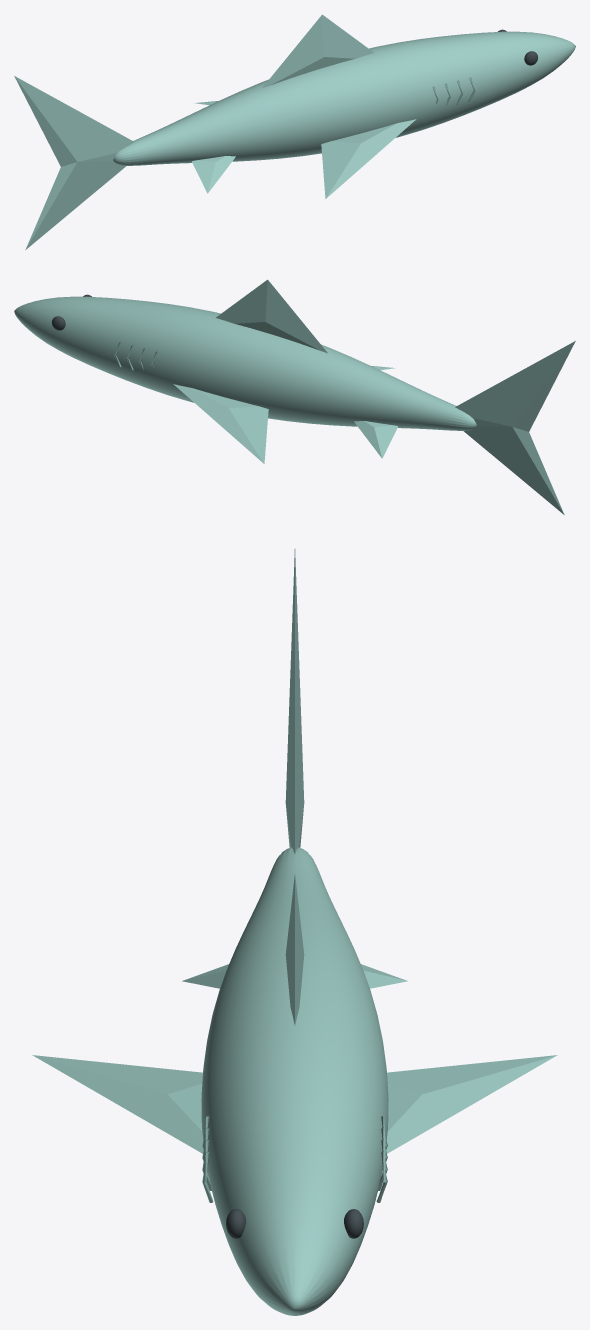
The picture shows the model from 3 angles, top to bottom: view 1: azimuth 30°, elevation 25°; view 2: azimuth 150°, elevation 25°; view 3: azimuth 270°, elevation 25°; orthographic projection. The views are drawn at different scales.
Visible parts, largest first — view 1: Body, Tail, Dorsal, Pectoral, Pelvic; view 2: Body, Tail, Dorsal, Pectoral.001, Pelvic.001; view 3: Body, Pectoral.001, Pectoral, Tail, Dorsal.
Part boxes in pixels (bbox=[...]): Body: bbox=[113, 31, 575, 165]; Tail: bbox=[14, 76, 134, 249]; Dorsal: bbox=[262, 14, 373, 88]; Pectoral: bbox=[321, 119, 416, 198]; Pelvic: bbox=[192, 156, 235, 193]; Body: bbox=[14, 296, 476, 430]; Tail: bbox=[455, 341, 575, 514]; Dorsal: bbox=[216, 279, 327, 353]; Pectoral.001: bbox=[173, 384, 268, 463]; Pelvic.001: bbox=[354, 421, 397, 458]; Body: bbox=[201, 847, 388, 1315]; Pectoral.001: bbox=[386, 1055, 557, 1153]; Pectoral: bbox=[32, 1055, 203, 1153]; Tail: bbox=[285, 549, 304, 853]; Dorsal: bbox=[285, 874, 304, 1025].
Size of the model in its own units: 252 by 76 by 102.
